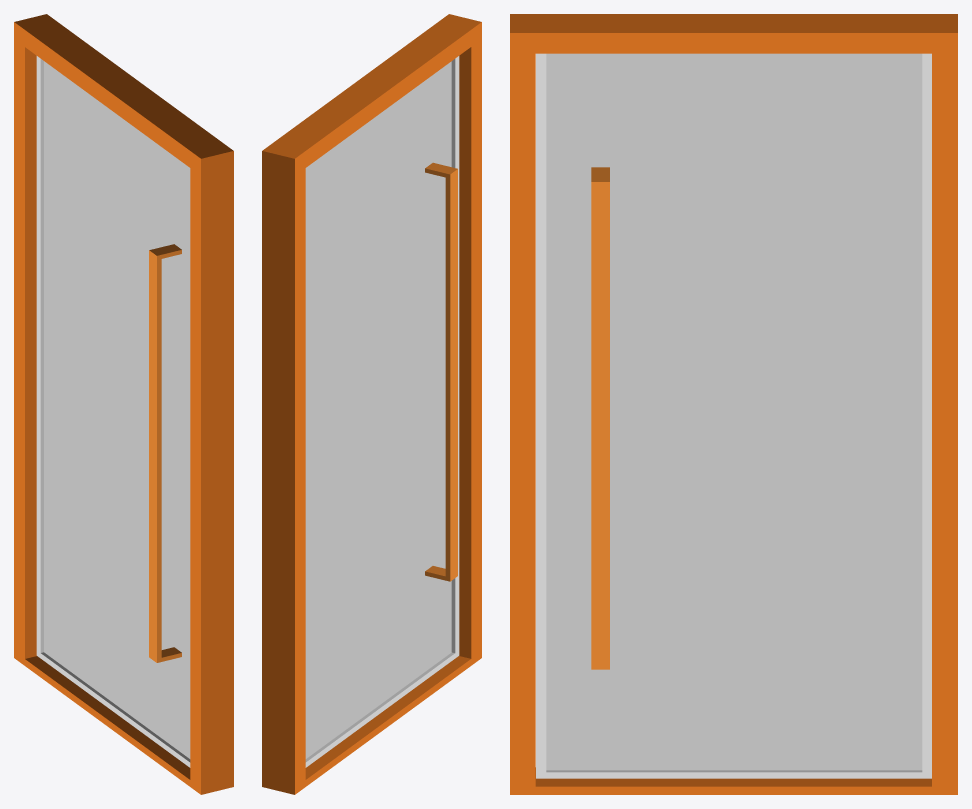
File: Door 2.fbx
3 views of the same model, side by side, from view 1: azimuth 30°, elevation 25°; view 2: azimuth 150°, elevation 25°; view 3: azimuth 270°, elevation 25° (orthographic). The views are drawn at different scales.
Parts seen in each view (by area): view 1: Node 1, Node 0; view 2: Node 1, Node 0; view 3: Node 1, Node 0.
Boxes of the visible parts, bbox=[...] form: Node 1: bbox=[36, 56, 190, 767]; Node 0: bbox=[14, 14, 233, 794]; Node 1: bbox=[305, 56, 459, 767]; Node 0: bbox=[262, 14, 481, 794]; Node 1: bbox=[536, 53, 931, 778]; Node 0: bbox=[510, 14, 957, 794].
Bounding box in the file's own units: 1.26 × 2.37 × 0.2052.
